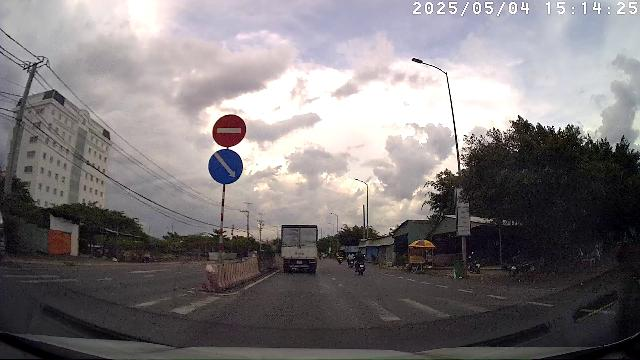102-cam-di-nguoc-chieu: (213, 114, 247, 148)
302a-huong-phai-di-vong-chuong-ngai-vat-1: (208, 150, 244, 185)
